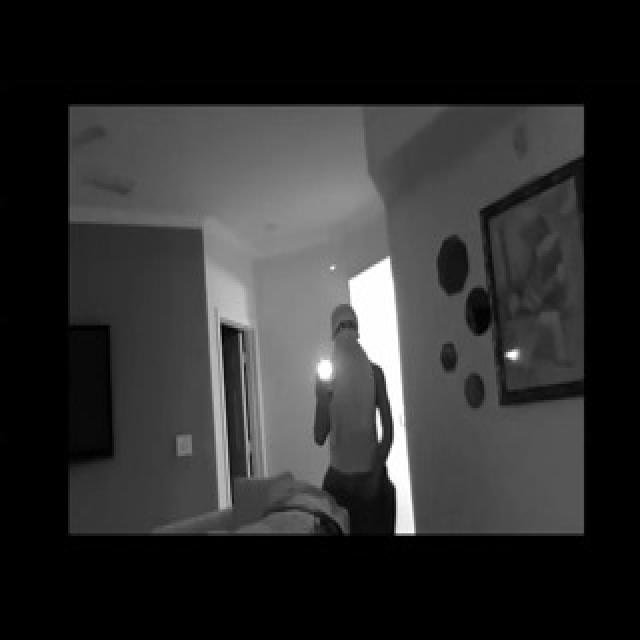thief: (316, 282, 386, 424)
